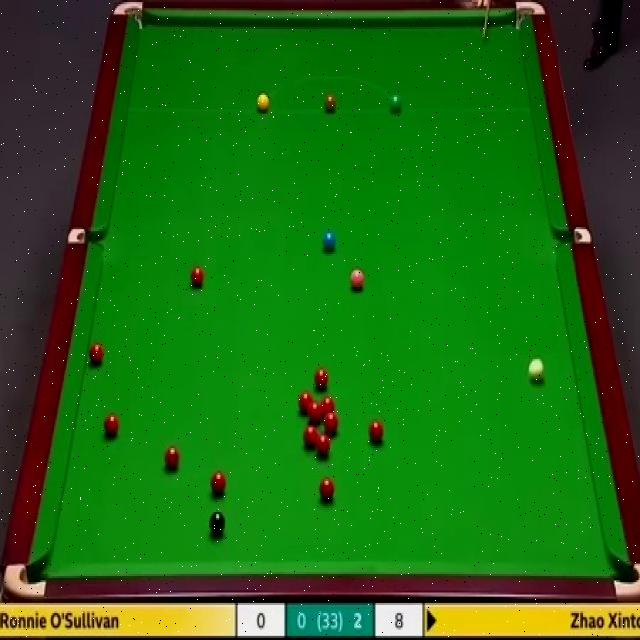black-ball: (209, 510, 228, 534)
blue-ball: (322, 229, 337, 255)
brown-ball: (323, 93, 337, 112)
green-ball: (389, 94, 403, 112)
pink-ball: (350, 270, 365, 293)
red-ball: (87, 342, 106, 369), (101, 410, 119, 438), (319, 476, 336, 504), (163, 444, 180, 472), (297, 389, 315, 415), (210, 470, 228, 495), (312, 367, 331, 390), (322, 422, 340, 445), (368, 420, 384, 444), (303, 424, 318, 449), (321, 397, 336, 421), (307, 402, 323, 424), (190, 268, 204, 287), (316, 413, 331, 430)
white-ball: (527, 358, 544, 383)
yellow-ball: (256, 93, 270, 112)
